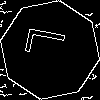L: (25, 25, 75, 61)
